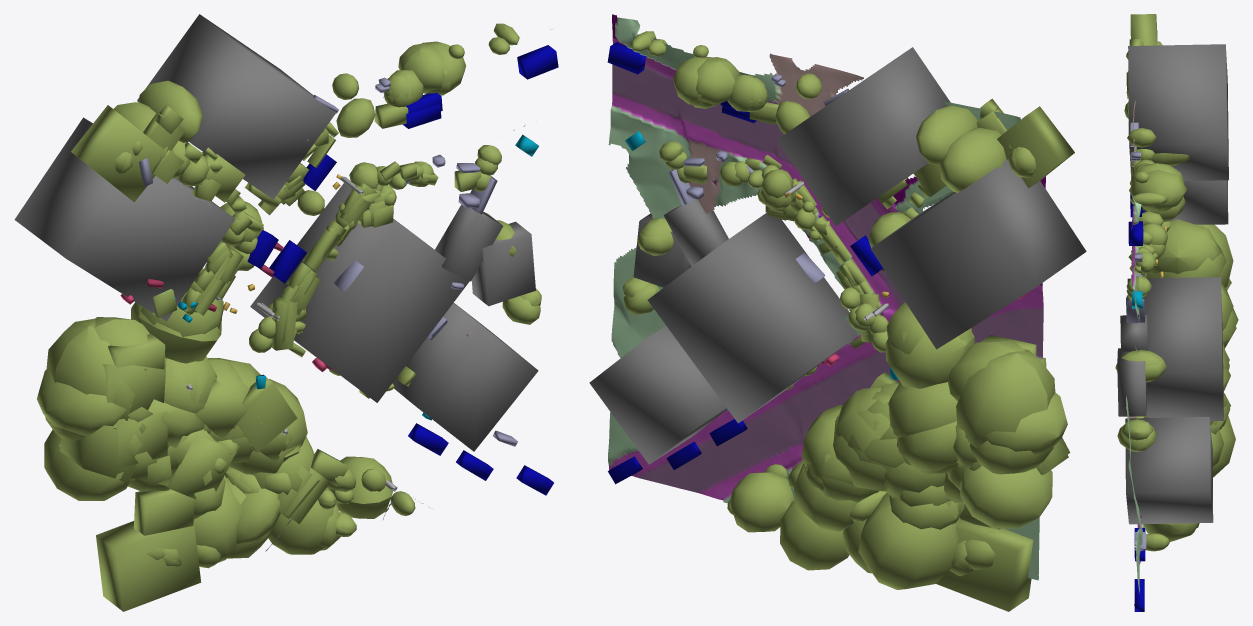
3 renders of one model, left to right at view 1: azimuth 30°, elevation 25°; view 2: azimuth 150°, elevation 25°; view 3: azimuth 270°, elevation 25°, orthographic. The views are drawn at different scales.
Size of the model in its own units: 70.11 by 73.33 by 17.74.
